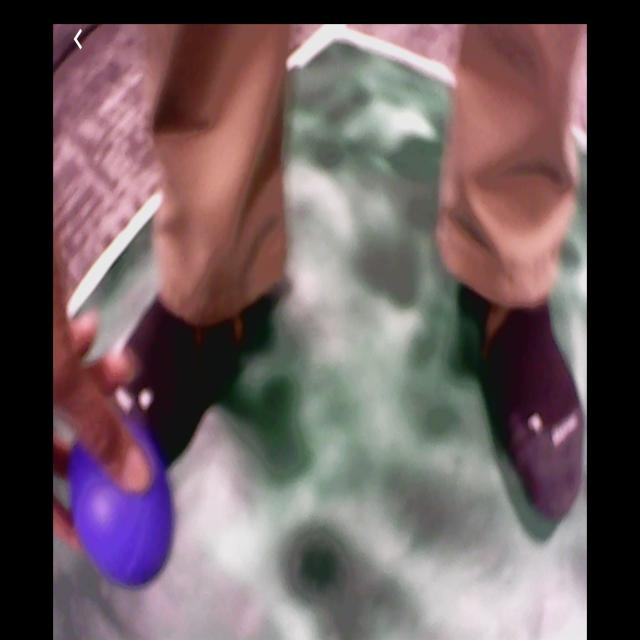ball: (70, 421, 173, 591)
